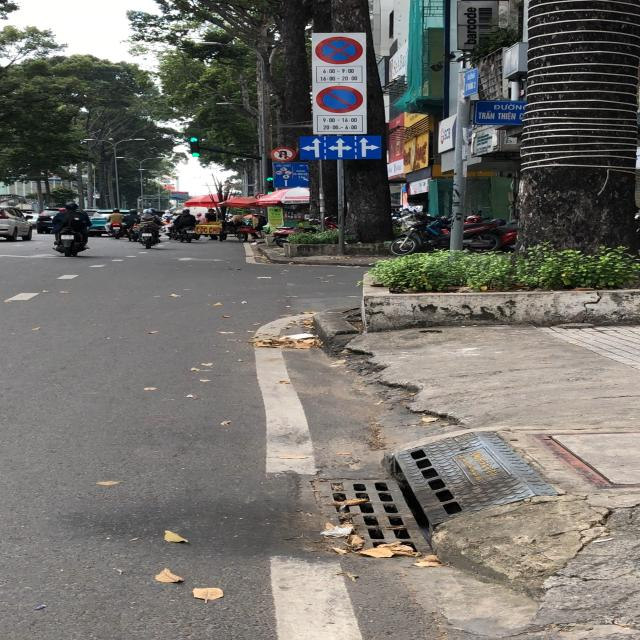Bien bao cam dung xe va do xe: (312, 33, 368, 67), (316, 85, 365, 115)
Bien bao cam quay dau xe: (269, 146, 297, 164)
